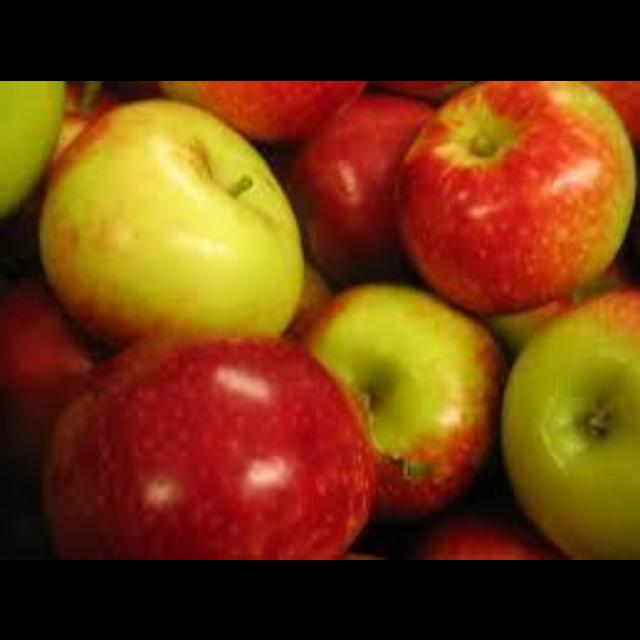apple: (44, 337, 373, 557), (40, 97, 301, 342), (398, 80, 633, 312), (304, 283, 502, 517), (502, 290, 638, 557), (287, 92, 432, 283), (158, 80, 363, 139), (0, 80, 62, 216)
